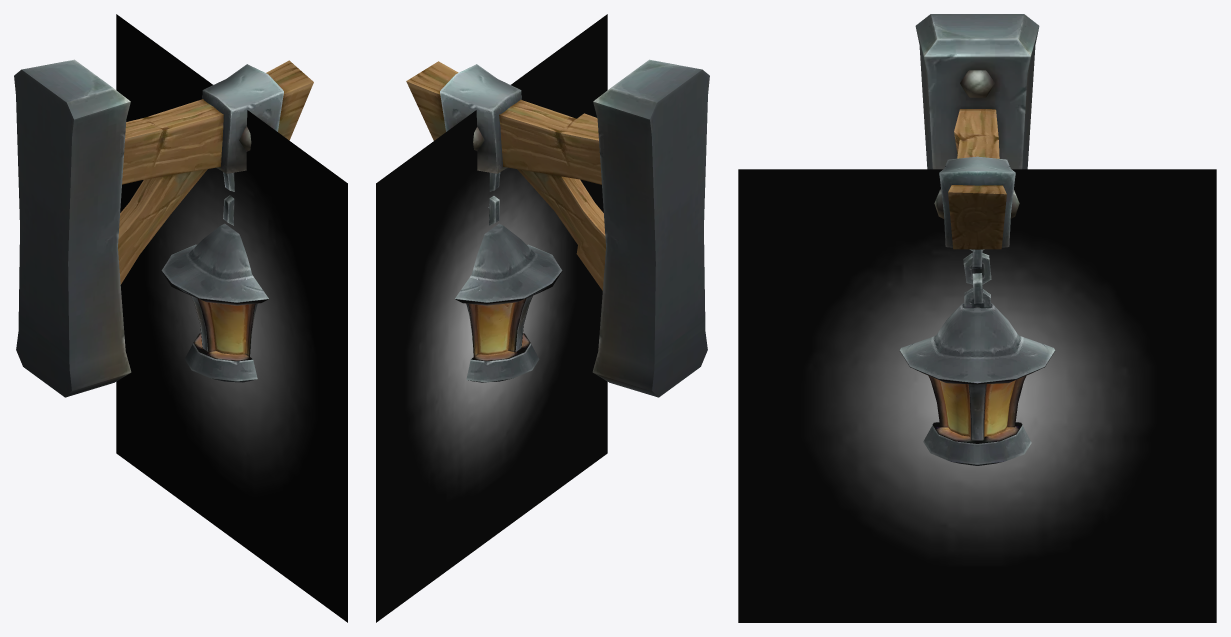
3 views of the same model, side by side, from view 1: azimuth 30°, elevation 25°; view 2: azimuth 150°, elevation 25°; view 3: azimuth 270°, elevation 25° (orthographic). The views are drawn at different scales.
Size of the model in its own units: 2.52 by 4.62 by 3.89.
Materials: 3 (3 with a texture image).
